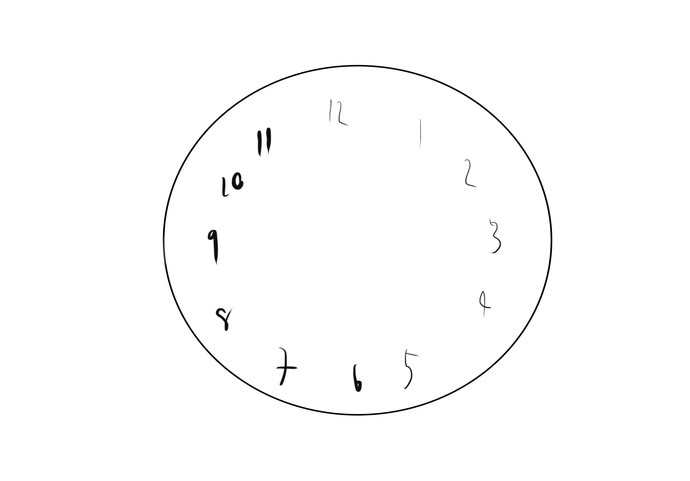eight: (209, 302, 239, 337)
eleven: (252, 121, 285, 162)
five: (395, 349, 422, 391)
four: (470, 285, 496, 317)
nine: (202, 222, 230, 266)
one: (406, 114, 433, 156)
seven: (271, 344, 302, 385)
six: (352, 362, 366, 397)
ten: (215, 162, 249, 205)
three: (484, 211, 507, 255)
twelve: (319, 91, 353, 135)
two: (457, 154, 483, 191)
